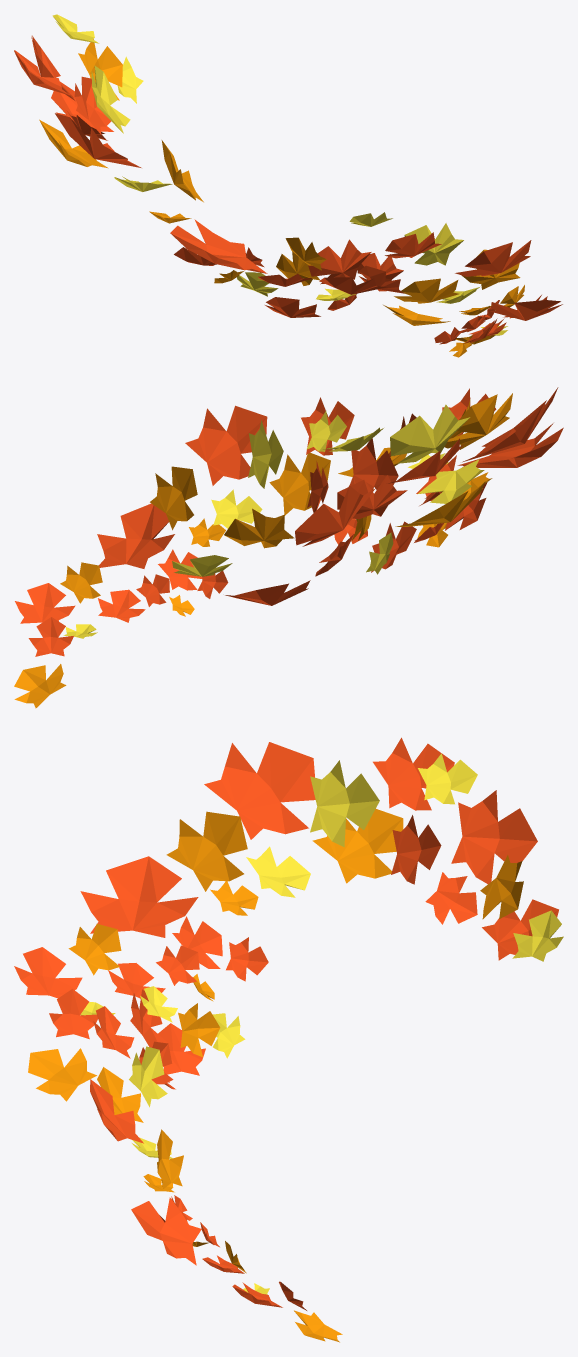
File: scene_UsdIarD4zX.glb
The picture shows the model from 3 angles, top to bottom: view 1: azimuth 30°, elevation 25°; view 2: azimuth 150°, elevation 25°; view 3: azimuth 270°, elevation 25°; orthographic projection. The views are drawn at different scales.
Visible parts, largest first — view 1: group1173903527, group162118422; view 2: group162118422, group1173903527; view 3: group1173903527, group162118422.
Part boxes in pixels (x1,y1,x2,y2): group1173903527: [14, 14, 450, 325]; group162118422: [237, 212, 562, 357]; group162118422: [14, 397, 416, 708]; group1173903527: [172, 387, 563, 605]; group1173903527: [14, 737, 563, 1101]; group162118422: [90, 986, 342, 1342].
Bounding box in the file's own units: 3.95 × 2.96 × 3.72.
